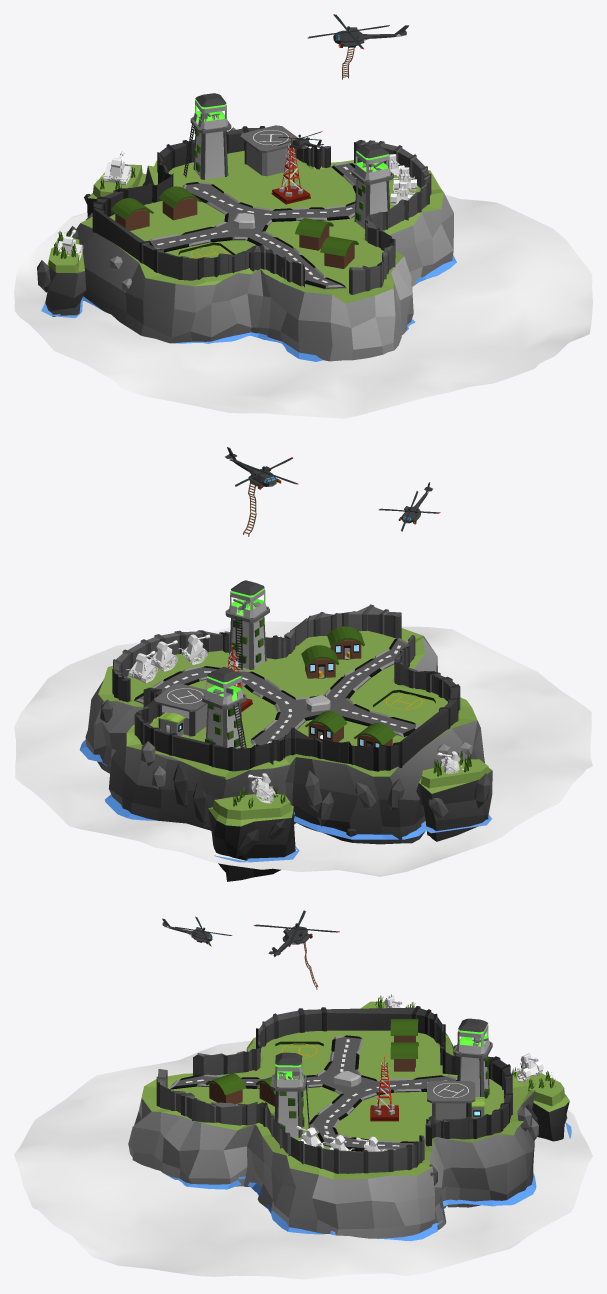
The model's file is military-base.glb.
3 views of the same model, one above another, from view 1: azimuth 30°, elevation 25°; view 2: azimuth 150°, elevation 25°; view 3: azimuth 270°, elevation 25° (orthographic). The views are drawn at different scales.
Visible parts, largest first — view 1: World9-Miitary, Plane; view 2: World9-Miitary, Plane; view 3: World9-Miitary, Plane.
Part boxes in pixels (left/top/right/bottom): World9-Miitary: left=37, top=14, right=456, bottom=361; Plane: left=14, top=194, right=592, bottom=418; World9-Miitary: left=79, top=447, right=492, bottom=881; Plane: left=14, top=621, right=592, bottom=876; World9-Miitary: left=128, top=910, right=571, bottom=1241; Plane: left=14, top=1040, right=592, bottom=1279.
Size of the model in its own units: 23.85 by 12.94 by 23.99.
4 materials, 2 textured.
